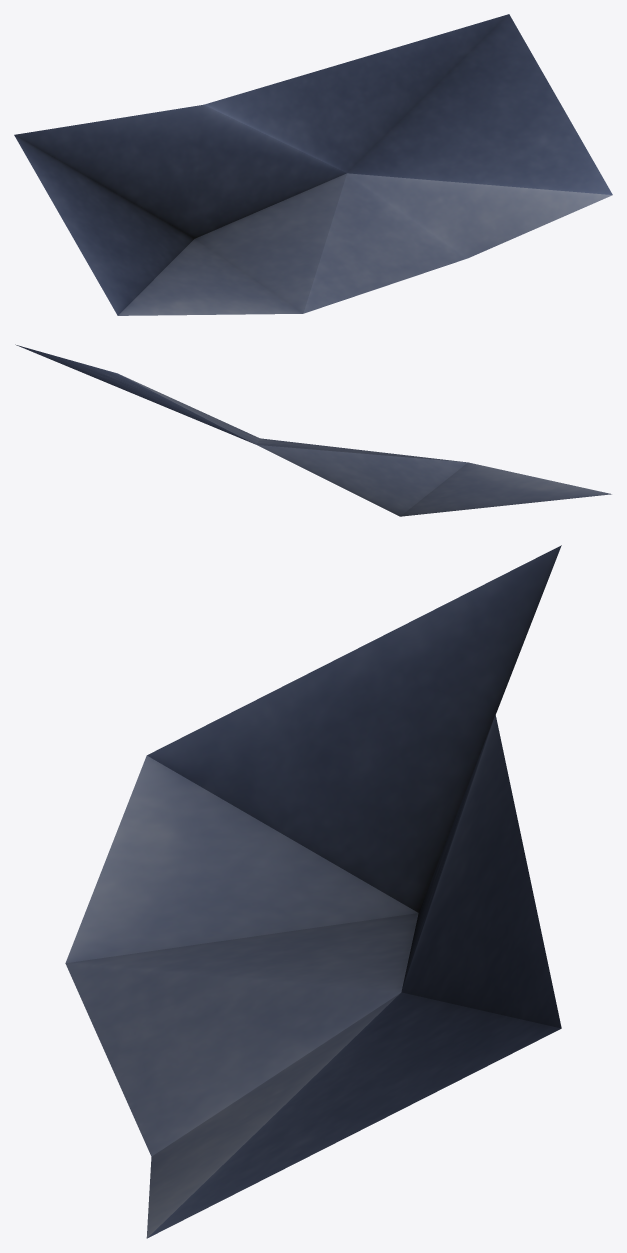
The model's file is SM_Floor_Edge_C_A.fbx.
3 views of the same model, one above another, from view 1: azimuth 30°, elevation 25°; view 2: azimuth 150°, elevation 25°; view 3: azimuth 270°, elevation 25° (orthographic). The views are drawn at different scales.
Visible parts, largest first — view 1: pCube189; view 2: pCube189; view 3: pCube189.
Part boxes in pixels (x1,y1,x2,y2): pCube189: (14,14,612,315); pCube189: (15,344,611,516); pCube189: (65,545,561,1238).
Bounding box in the file's own units: 1 × 0.2589 × 0.4341.
